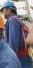gloves: (0, 43, 12, 68), (0, 26, 12, 42)
hard-hat: (0, 8, 14, 28)
